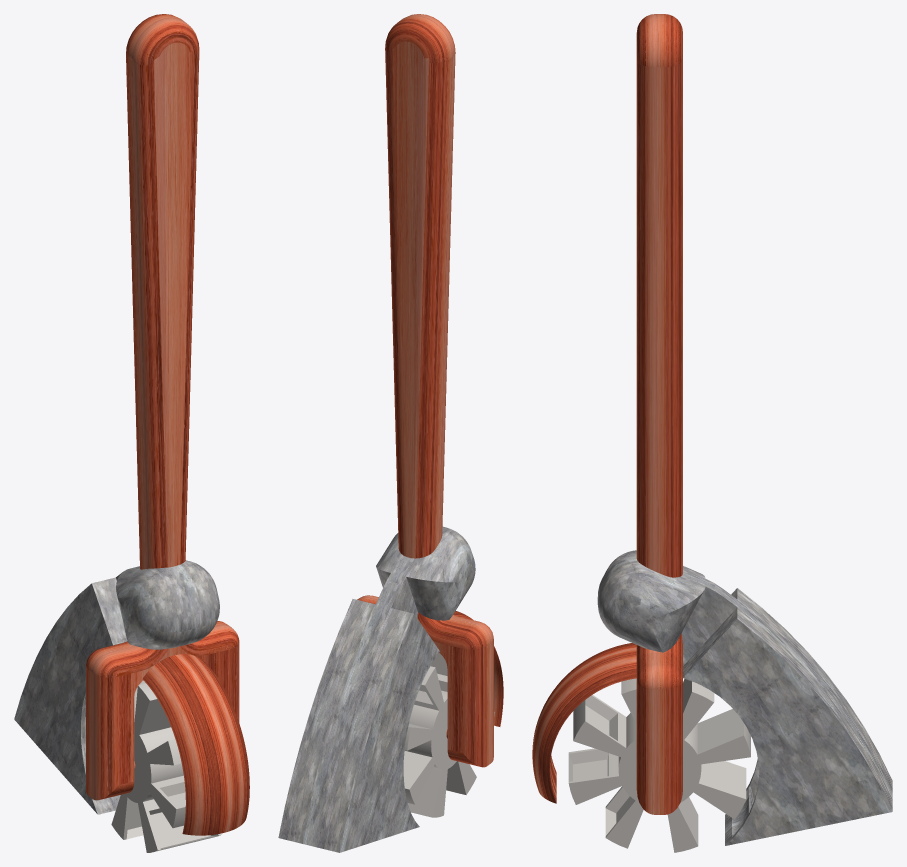
File: Craver.gltf
The picture shows the model from 3 angles, left to right: view 1: azimuth 30°, elevation 25°; view 2: azimuth 150°, elevation 25°; view 3: azimuth 270°, elevation 25°; orthographic projection. The views are drawn at different scales.
Visible parts, largest first — view 1: Body_1 (×4); view 2: Body_1 (×4); view 3: Body_1 (×4).
Part boxes in pixels (x1,y1,x2,y2): Body_1 (×4): (14, 14, 249, 852); Body_1 (×4): (278, 14, 503, 852); Body_1 (×4): (532, 14, 892, 852).
Size of the model in its own units: 0.09 by 0.4898 by 0.1951.
Materials: 4 (3 with a texture image).
